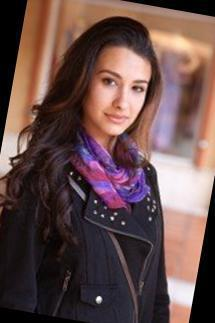Sober: (90, 53, 145, 128)
